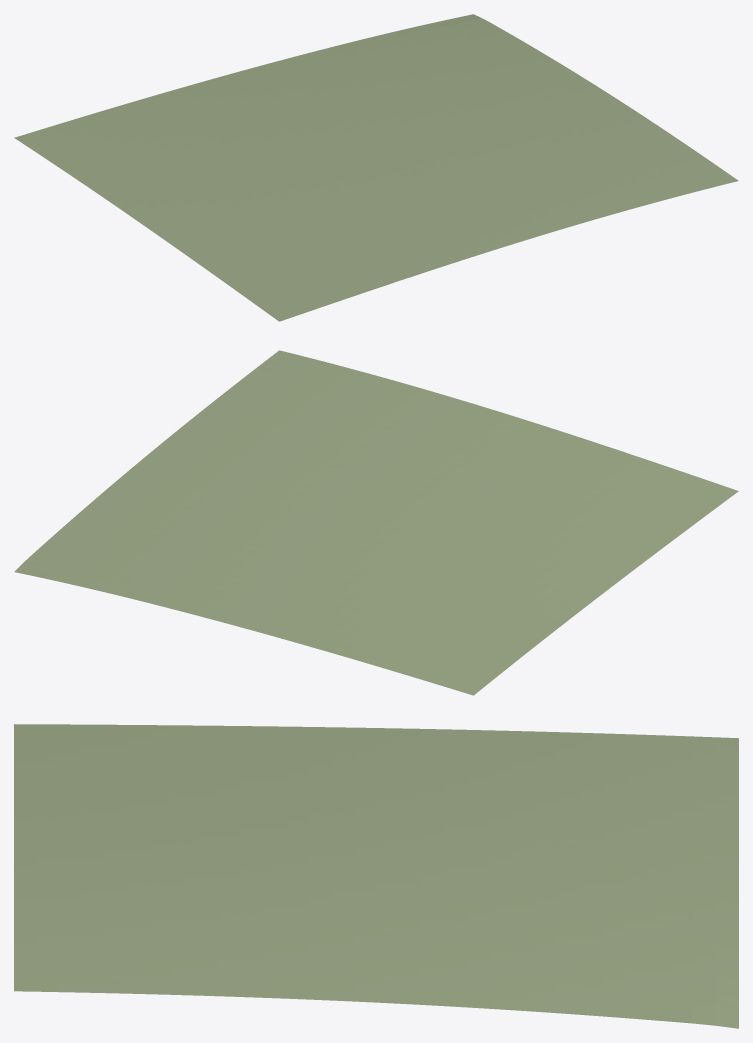
Rendered from valley-10-9.glb.
The picture shows the model from 3 angles, top to bottom: view 1: azimuth 30°, elevation 25°; view 2: azimuth 150°, elevation 25°; view 3: azimuth 270°, elevation 25°; orthographic projection. The views are drawn at different scales.
Visible parts, largest first — view 1: valley-10-9; view 2: valley-10-9; view 3: valley-10-9.
Boxes of the visible parts, x1,y1,x2,y2 form: valley-10-9: [14, 14, 738, 321]; valley-10-9: [14, 350, 738, 695]; valley-10-9: [14, 724, 738, 1028].
Size of the model in its own units: 256 by 20.75 by 256.
